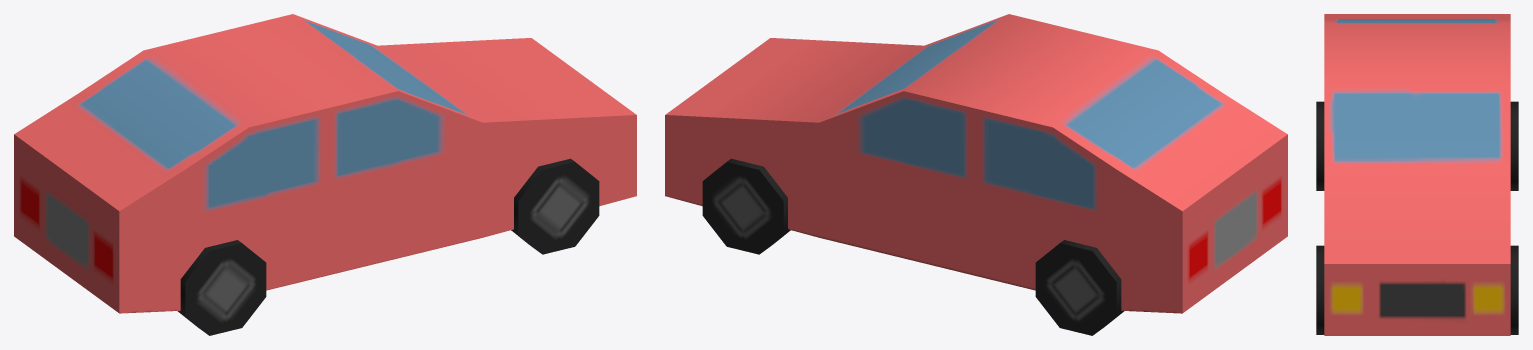
Rendered from Car01.glb.
The picture shows the model from 3 angles, left to right: view 1: azimuth 30°, elevation 25°; view 2: azimuth 150°, elevation 25°; view 3: azimuth 270°, elevation 25°; orthographic projection. The views are drawn at different scales.
Parts seen in each view (by area): view 1: Car01; view 2: Car01; view 3: Car01.
Part boxes in pixels (left/top/right/bottom): Car01: left=14, top=14, right=636, bottom=335; Car01: left=665, top=14, right=1287, bottom=335; Car01: left=1316, top=14, right=1518, bottom=335.
Size of what is drawn, in the model's own units: 4.05 by 1.46 by 1.55.
1 material, 1 textured.
